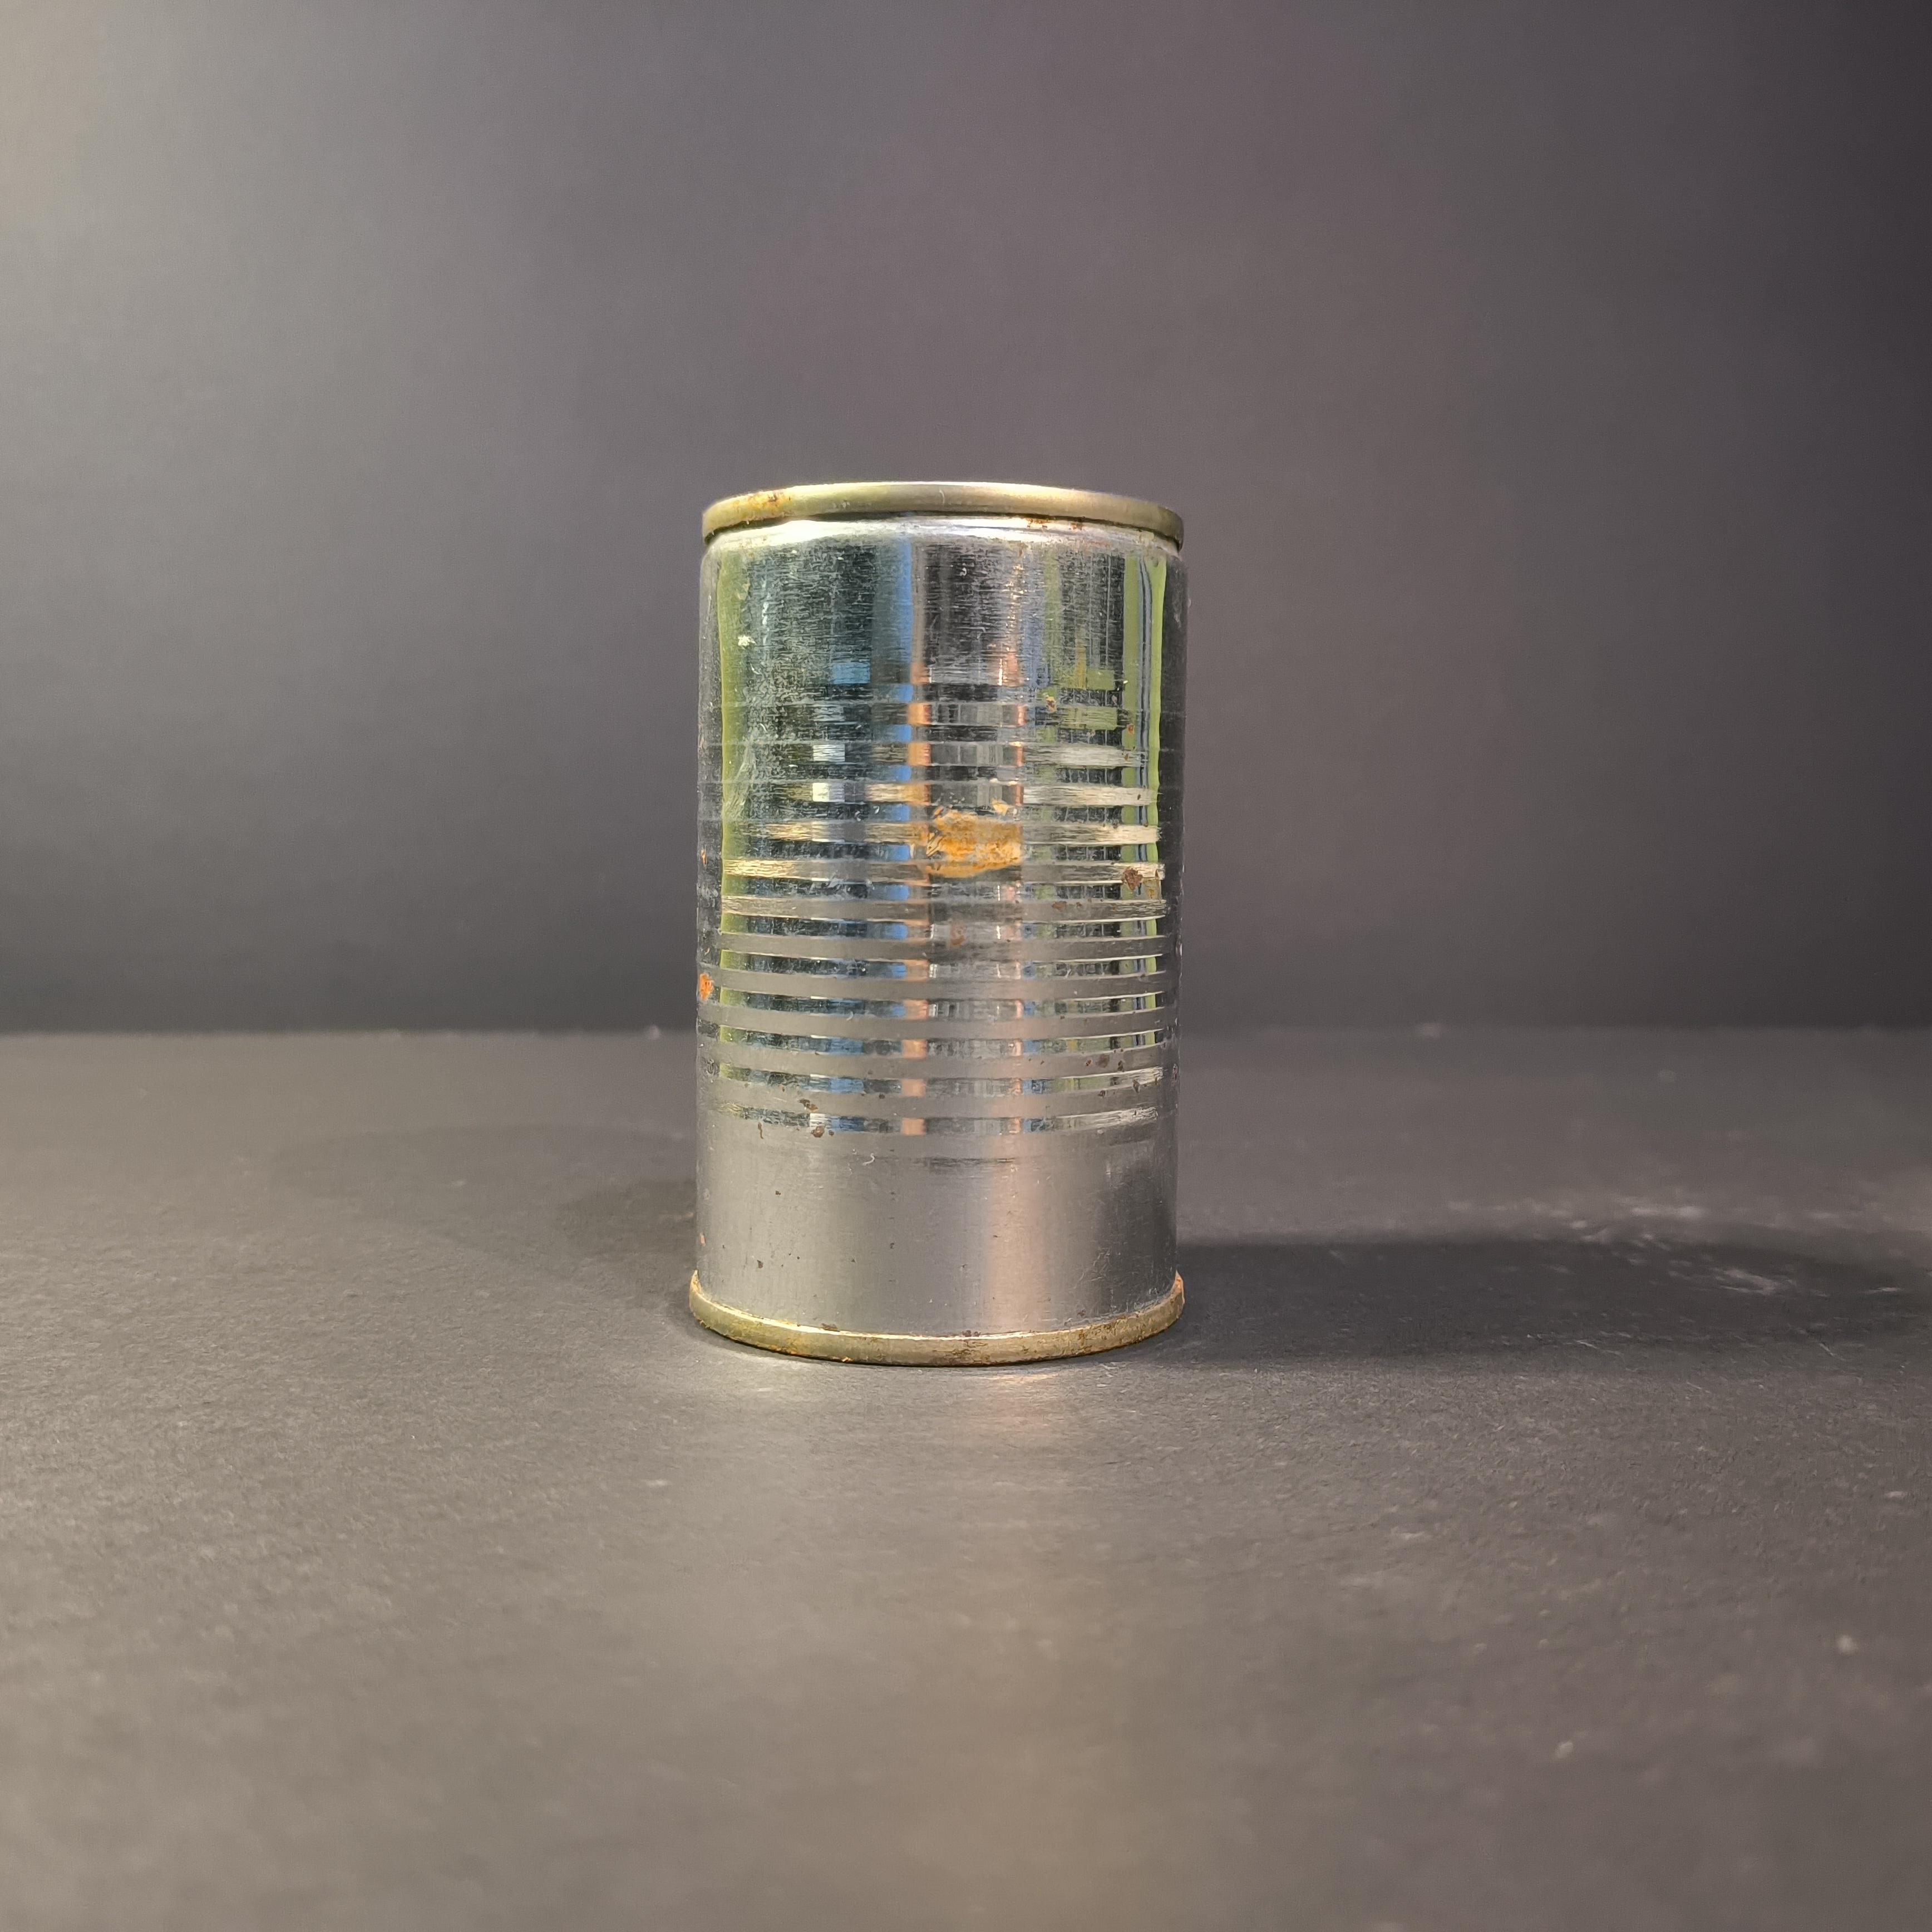Rusted: (681, 465, 1200, 1375)
